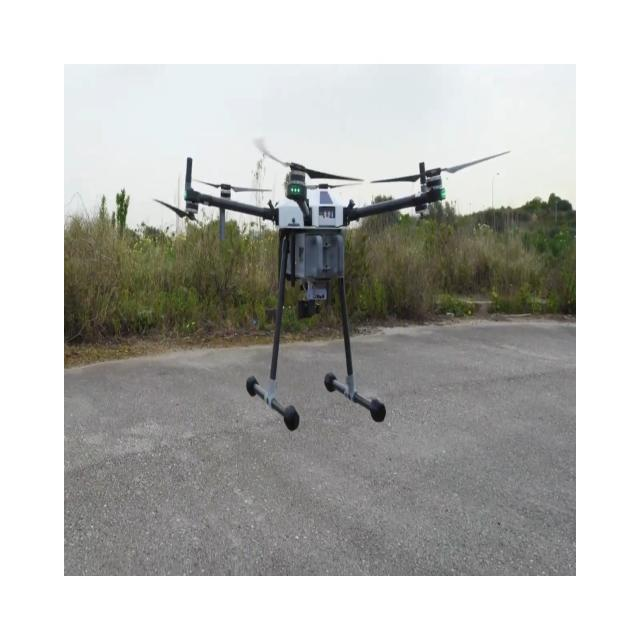drone: (152, 137, 511, 431)
